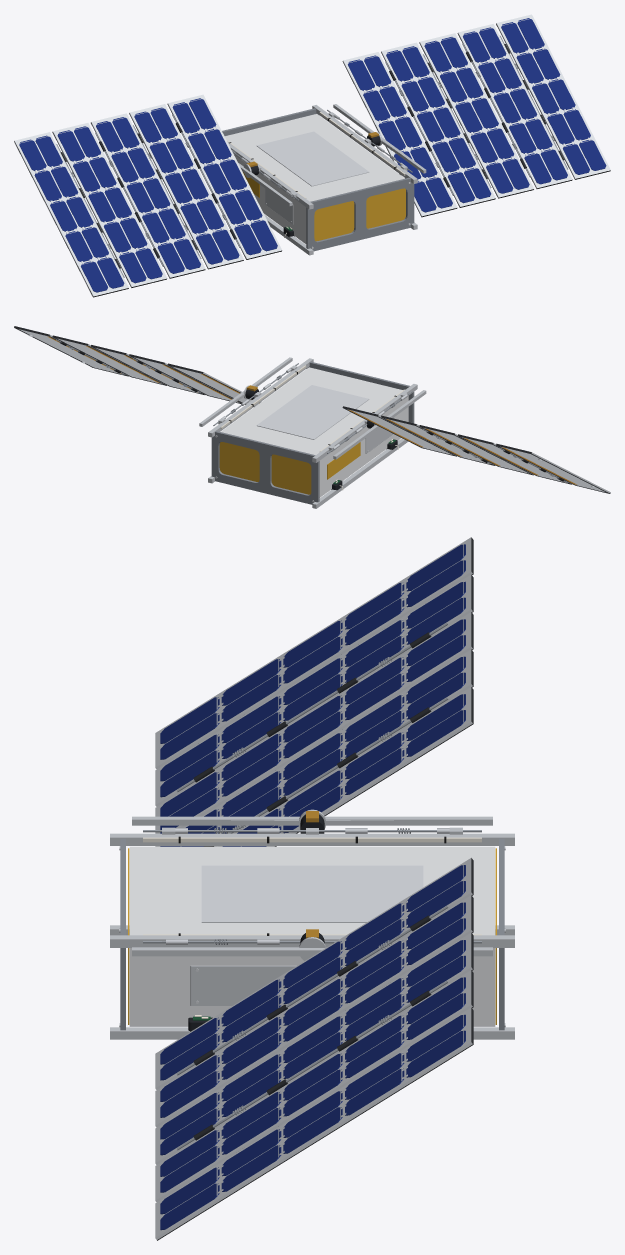
The model's file is solar-2wing.glb.
3 views of the same model, one above another, from view 1: azimuth 30°, elevation 25°; view 2: azimuth 150°, elevation 25°; view 3: azimuth 270°, elevation 25° (orthographic). The views are drawn at different scales.
Parts seen in each view (by area): view 1: mount-deck-top, left-panel-2-cells, right-panel-2-cells, right-panel-3-cells, left-panel-1-cells, right-panel-4-cells, left-panel-5-cells, right-panel-5-cells, left-panel-3-cells, left-panel-4-cells, right-panel-1-cells, mount-bulkhead (×2) (+16 smaller); view 2: mount-deck-top, mount-bulkhead (×2), mount-radiator, mount-end-mli, mount-skin-side, mount-hinge-rail (×2), left-panel-5-substrate, mount-bottom-rail, right-panel-4-substrate, left-panel-1-substrate, left-panel-3-substrate, right-panel-2-substrate (+10 smaller); view 3: mount-deck-top, mount-radiator, left-panel-5-cells, right-panel-5-cells, right-panel-4-cells, right-panel-2-cells, left-panel-4-cells, right-panel-1-cells, right-panel-3-cells, left-panel-3-cells, mount-skin-side, left-panel-2-cells (+18 smaller).
Part boxes in pixels (bbox=[...]): mount-deck-top: bbox=[225, 114, 404, 201]; left-panel-2-cells: bbox=[134, 107, 239, 264]; right-panel-2-cells: bbox=[386, 46, 491, 203]; right-panel-3-cells: bbox=[424, 37, 529, 193]; left-panel-1-cells: bbox=[172, 98, 277, 255]; right-panel-4-cells: bbox=[463, 27, 567, 184]; left-panel-5-cells: bbox=[19, 135, 124, 292]; right-panel-5-cells: bbox=[501, 18, 606, 174]; left-panel-3-cells: bbox=[96, 117, 200, 273]; left-panel-4-cells: bbox=[57, 126, 162, 283]; right-panel-1-cells: bbox=[348, 55, 452, 212]; mount-bulkhead (×2): bbox=[222, 108, 414, 251]; mount-deck-top: bbox=[221, 367, 402, 455]; mount-bulkhead (×2): bbox=[211, 361, 414, 504]; mount-radiator: bbox=[256, 385, 369, 439]; mount-end-mli: bbox=[219, 442, 311, 494]; mount-skin-side: bbox=[319, 396, 408, 497]; mount-hinge-rail (×2): bbox=[208, 358, 417, 462]; left-panel-5-substrate: bbox=[500, 446, 610, 493]; mount-bottom-rail: bbox=[312, 438, 408, 508]; right-panel-4-substrate: bbox=[57, 338, 165, 384]; left-panel-1-substrate: bbox=[347, 409, 456, 455]; left-panel-3-substrate: bbox=[424, 428, 533, 474]; right-panel-2-substrate: bbox=[134, 357, 239, 402]; mount-deck-top: bbox=[129, 846, 495, 935]; mount-radiator: bbox=[201, 865, 423, 922]; left-panel-5-cells: bbox=[160, 544, 465, 759]; right-panel-5-cells: bbox=[160, 1014, 465, 1230]; right-panel-4-cells: bbox=[160, 977, 465, 1192]; right-panel-2-cells: bbox=[160, 902, 465, 1117]; left-panel-4-cells: bbox=[160, 581, 465, 797]; right-panel-1-cells: bbox=[160, 865, 465, 1080]; right-panel-3-cells: bbox=[160, 940, 465, 1155]; left-panel-3-cells: bbox=[160, 619, 465, 833]; mount-skin-side: bbox=[129, 948, 495, 1026]; left-panel-2-cells: bbox=[160, 656, 465, 846].
Size of the model in its own units: 1.08 by 0.1982 by 0.366.
